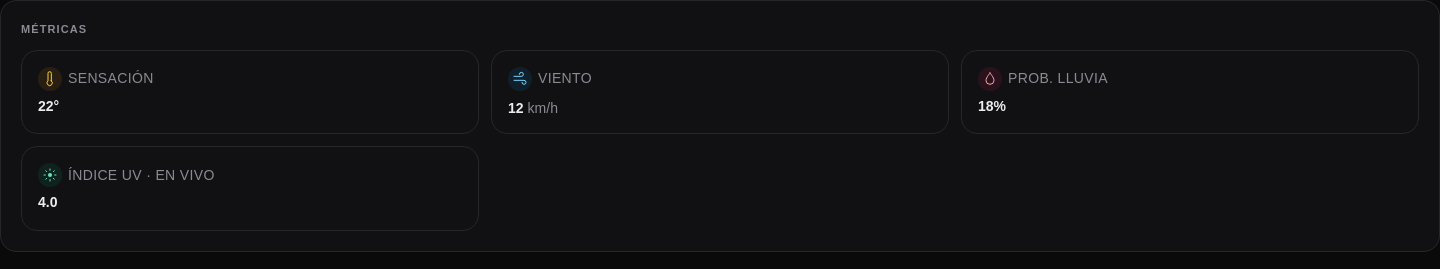
Test: AirConditionsGrid › cycles the rain tile through chance → intensity → day → chance
Click the button "Prob. lluvia 18%".
click(1058, 78)  # box [961,50,1419,134]
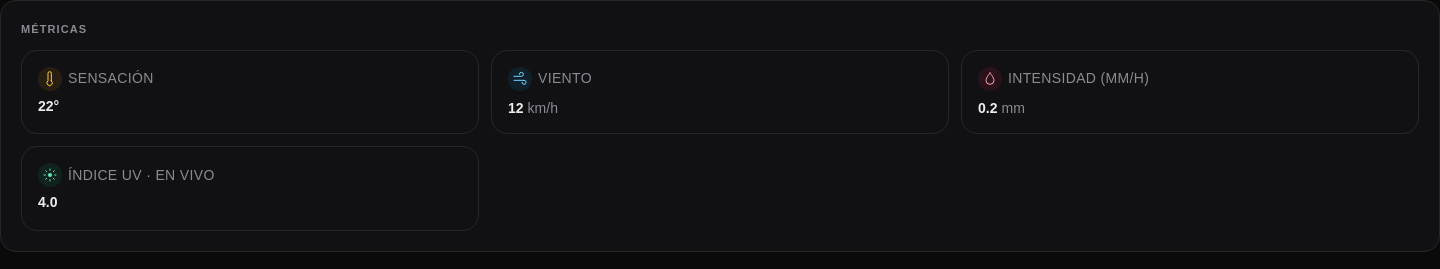
Expected: the text "Intensidad" is shown, [1008,70,1149,86]
Click the button "Intensidad (mm/h) 0.2 mm".
click(1079, 78)  # box [961,50,1419,134]
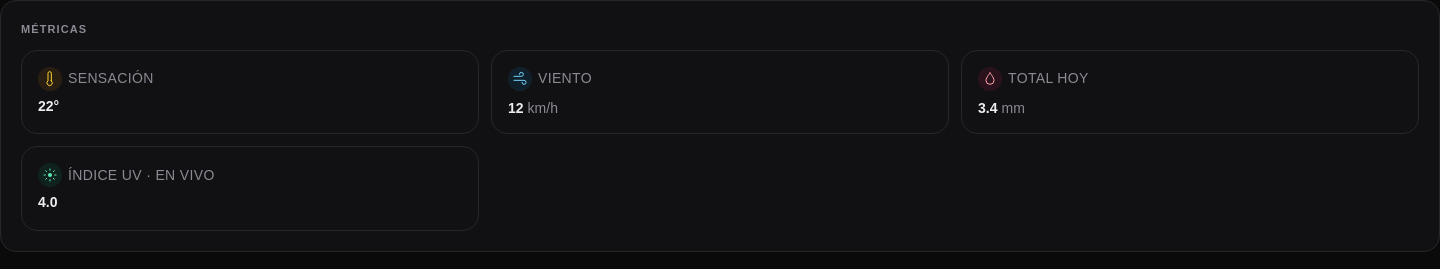
Expected: the text "Total hoy" is shown, [1008,68,1089,89]
Click the button "Total hoy 3.4 mm".
click(1048, 78)  # box [961,50,1419,134]
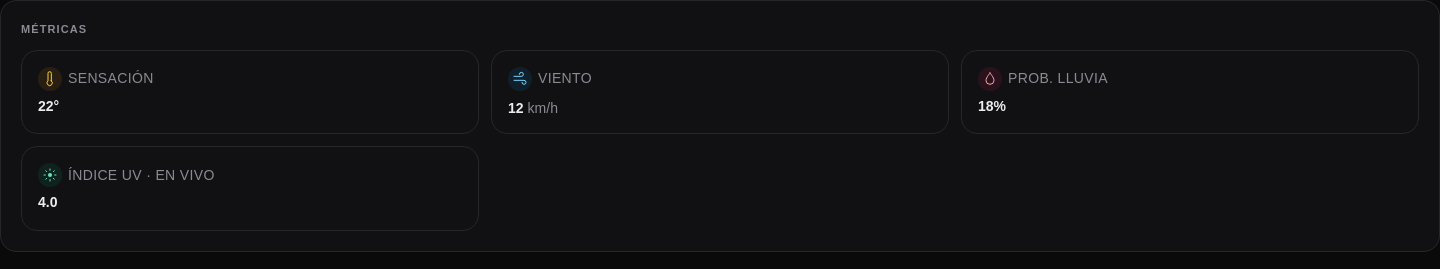
Expected: the text "Prob" is shown, [1008,70,1108,86]
